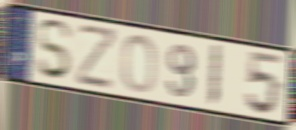5: (245, 48, 286, 117)
9: (165, 42, 197, 99)
I: (206, 42, 223, 110)
O: (120, 32, 159, 95)
S: (35, 18, 76, 82)
Z: (76, 24, 119, 92)
